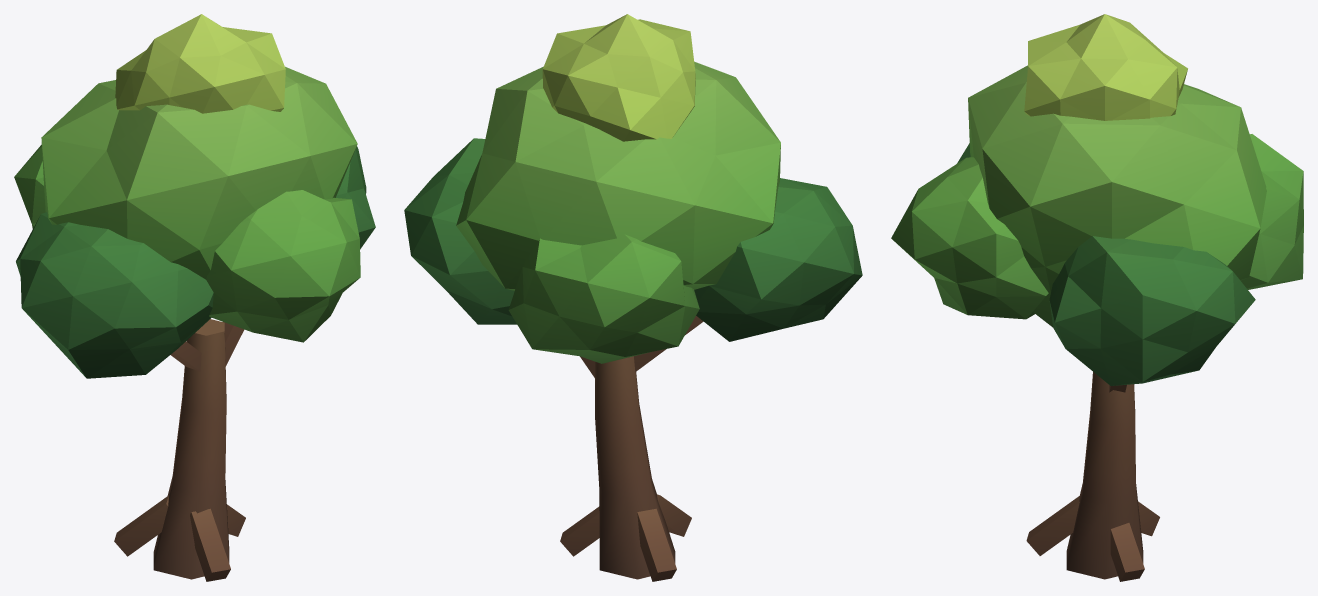
The model's file is tree_oak_a.glb.
The picture shows the model from 3 angles, left to right: view 1: azimuth 30°, elevation 25°; view 2: azimuth 150°, elevation 25°; view 3: azimuth 270°, elevation 25°; orthographic projection.
Parts seen in each view (by area): view 1: tree_oak_a; view 2: tree_oak_a; view 3: tree_oak_a.
Boxes of the visible parts, box(x1,y1,x2,y2) form: tree_oak_a: box(14, 14, 375, 581); tree_oak_a: box(404, 14, 862, 581); tree_oak_a: box(891, 14, 1303, 581).
Size of the model in its own units: 19.14 by 25.76 by 17.47.
Materials: 1 (1 with a texture image).
